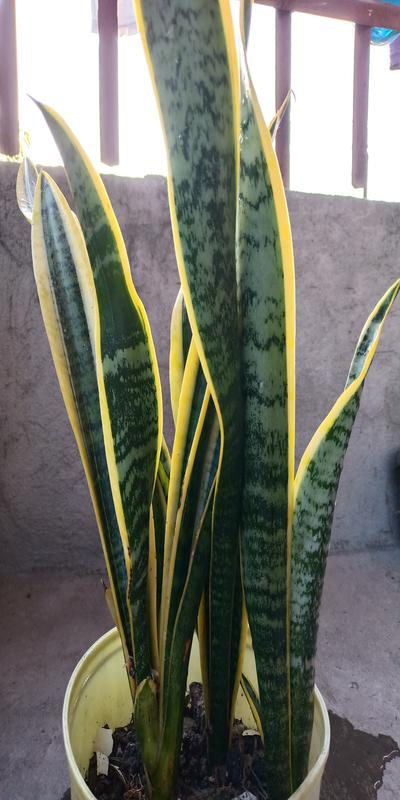Snake plant: (29, 22, 390, 744)
